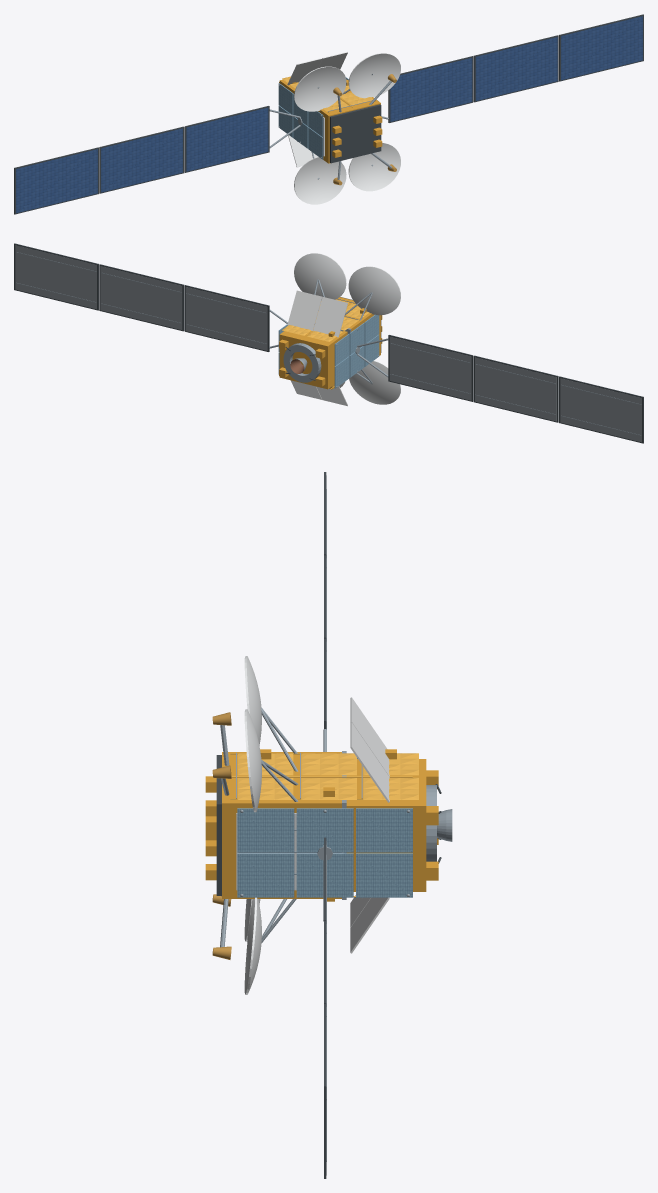
Rendered from spacebus-4000c2-multi.glb.
3 views of the same model, one above another, from view 1: azimuth 30°, elevation 25°; view 2: azimuth 150°, elevation 25°; view 3: azimuth 270°, elevation 25° (orthographic). The views are drawn at different scales.
Parts seen in each view (by area): view 1: Solar cell panel (×6), Communications reflector (×4), Solar panel frame (×6), Earth-facing deck, Radiator tile bay (×5), Deployed radiator leaf (×3), Payload module; view 2: Rear array substrate (×6), Communications reflector (×3), Solar panel frame (×6), Deployed radiator leaf (×4), Radiator tile bay (×6), Service module, Launch adapter ring, Payload module; view 3: Radiator tile bay (×6), Overlapping thermal blanket (×4), Payload module, Service module, Communications reflector (×2), Deployed radiator leaf (×2).
Boxes of the visible parts, x1,y1,x2,y2 form: Solar cell panel (×6): (16,16,642,213); Communications reflector (×4): (294,53,400,204); Solar panel frame (×6): (14,14,643,214); Earth-facing deck: (329,104,381,163); Radiator tile bay (×5): (278,83,323,159); Deployed radiator leaf (×3): (287,51,347,167); Payload module: (318,90,380,163); Rear array substrate (×6): (15,245,641,442); Communications reflector (×3): (294,253,400,404); Solar panel frame (×6): (14,243,643,443); Deployed radiator leaf (×4): (287,290,347,406); Radiator tile bay (×6): (334,314,379,388); Service module: (279,331,347,389); Launch adapter ring: (283,343,321,382); Payload module: (337,297,380,355); Radiator tile bay (×6): (237,808,412,897); Overlapping thermal blanket (×4): (237,753,418,799); Payload module: (222,752,341,898); Service module: (346,759,426,891); Communications reflector (×2): (244,709,261,994); Deployed radiator leaf (×2): (350,697,389,802).
Size of the model in its own units: 29.96 by 6.2 by 5.08.
11 materials, 2 textured.
